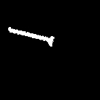half_double_crochet: (8, 27, 53, 45)
